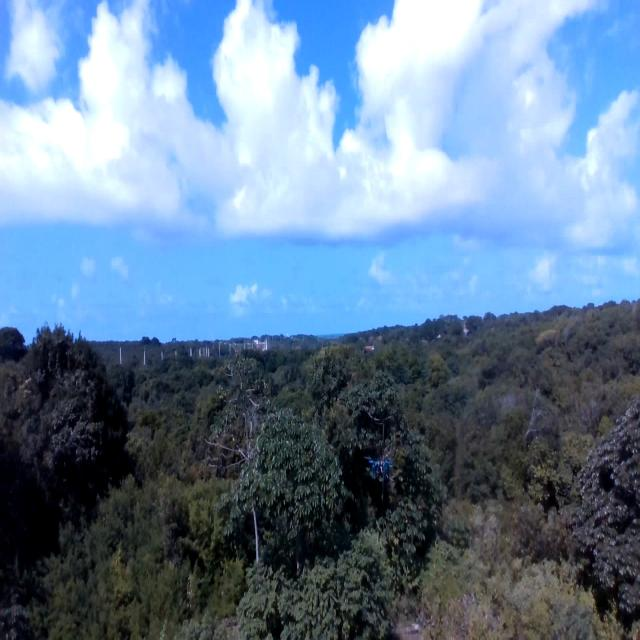-uav-: (359, 440, 400, 502)
